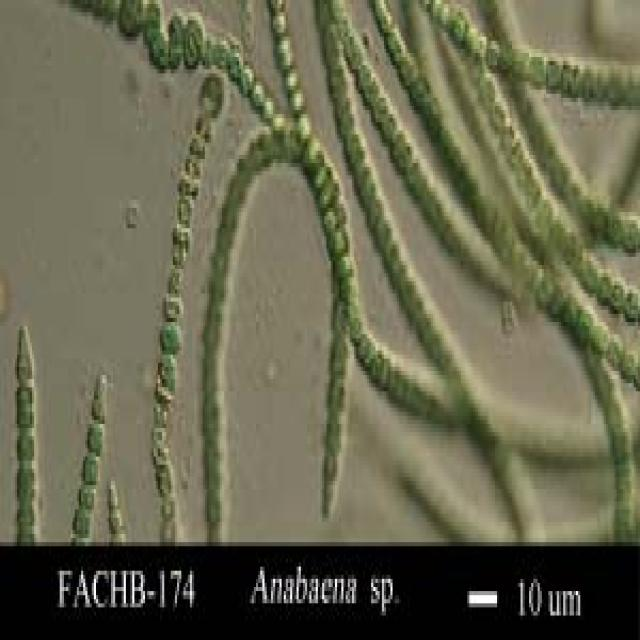Blue Green Algae: (390, 126, 414, 176), (169, 224, 194, 269), (352, 330, 375, 375), (81, 448, 105, 489), (177, 163, 203, 200), (156, 351, 179, 392), (329, 338, 352, 379), (354, 49, 373, 98), (158, 322, 183, 359), (335, 94, 356, 138), (326, 379, 348, 420), (566, 53, 584, 102), (621, 342, 640, 388), (527, 49, 546, 94), (160, 290, 183, 326), (386, 24, 405, 66), (324, 420, 346, 456), (324, 200, 348, 232), (546, 53, 563, 98), (168, 16, 182, 70), (326, 228, 352, 257), (184, 12, 198, 65), (608, 326, 623, 375), (333, 253, 358, 281), (623, 212, 640, 253), (17, 432, 38, 465), (17, 465, 36, 501), (625, 281, 640, 326), (88, 424, 106, 461), (92, 391, 111, 424), (593, 314, 608, 355), (610, 273, 625, 314), (77, 485, 98, 514), (72, 506, 91, 538), (598, 269, 612, 310), (17, 379, 36, 408), (164, 269, 182, 298), (486, 37, 502, 69), (216, 32, 228, 74), (239, 57, 252, 94), (106, 481, 120, 514), (175, 200, 194, 224), (278, 33, 292, 65), (17, 408, 34, 432), (109, 505, 124, 530), (228, 49, 239, 81), (252, 82, 262, 114)
